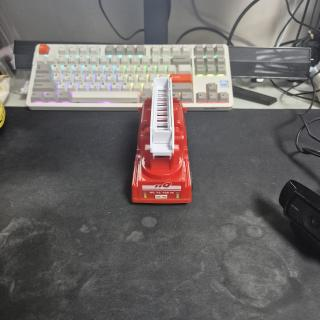Fire_truck: (132, 77, 193, 203)
